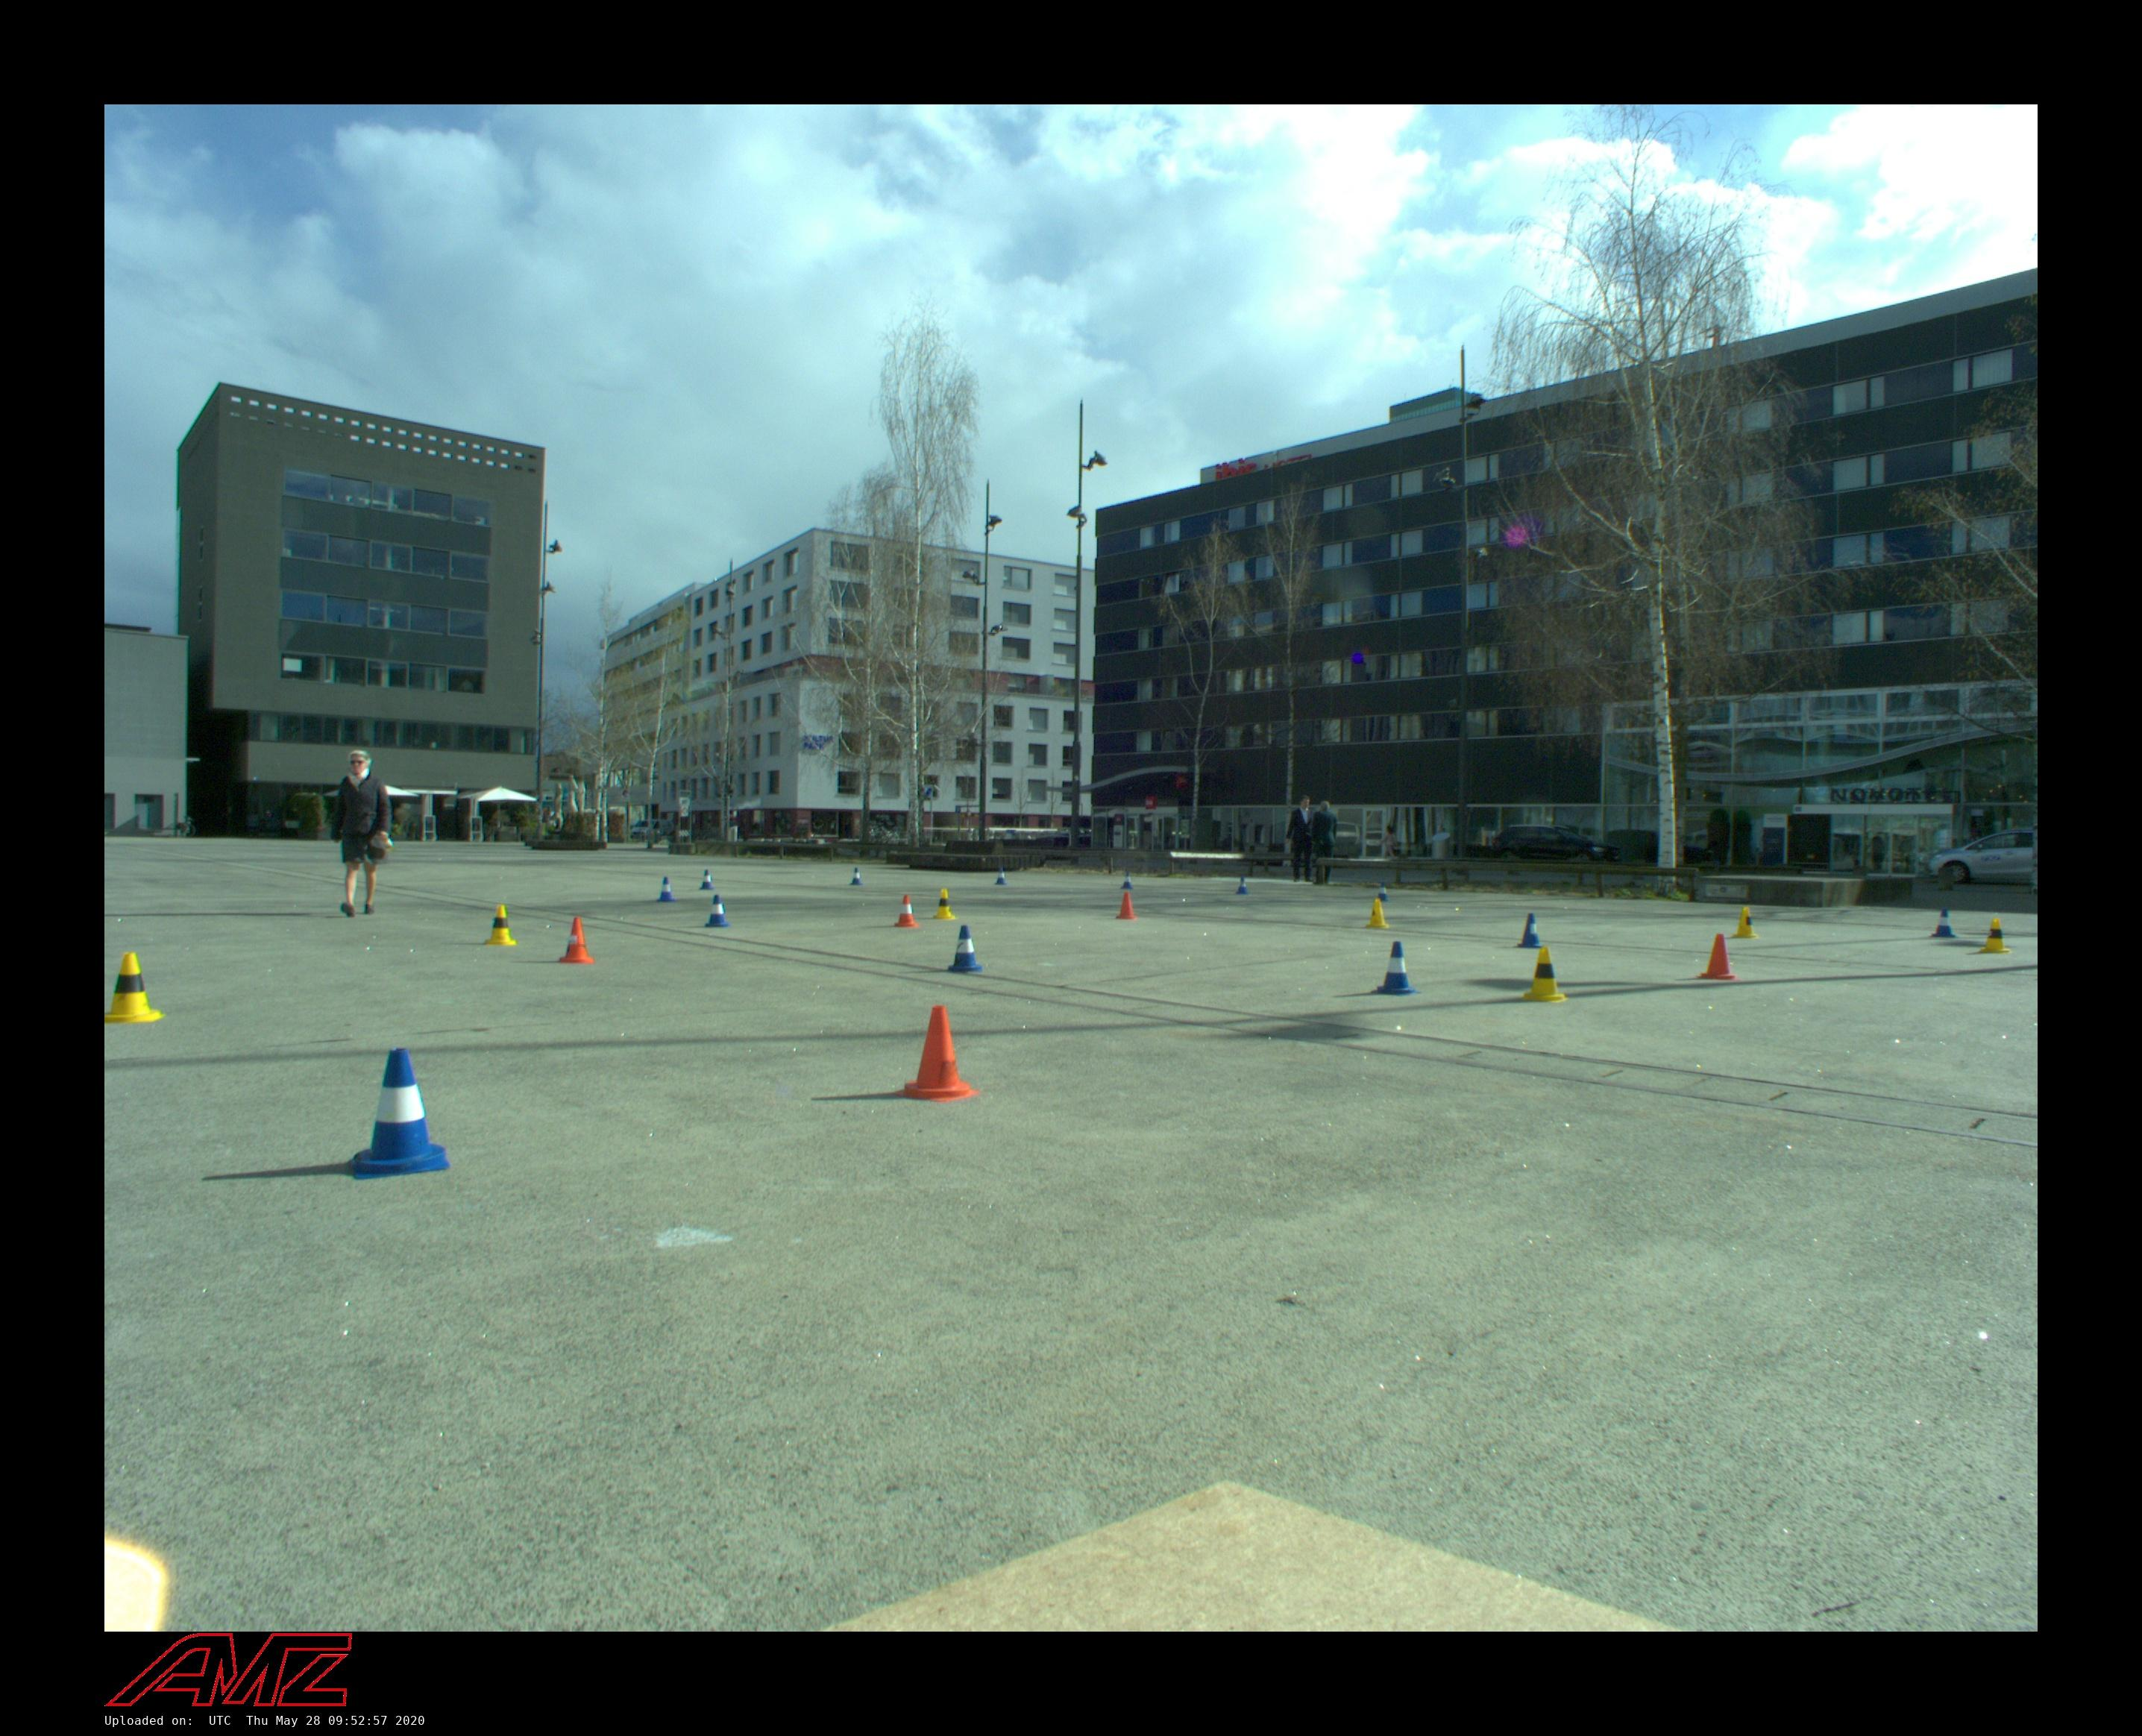blue_cone: (346, 1046, 449, 1180), (1369, 940, 1422, 997), (947, 925, 982, 973), (1514, 913, 1545, 950), (704, 894, 729, 928), (1930, 908, 1958, 939), (657, 877, 676, 902), (1374, 881, 1391, 902), (699, 870, 714, 890), (1235, 876, 1250, 895), (849, 867, 864, 886), (1120, 871, 1134, 890), (995, 868, 1008, 885)
orange_cone: (894, 1004, 980, 1103), (1695, 934, 1741, 981), (559, 917, 594, 964), (892, 894, 920, 928), (1115, 892, 1138, 921)
yellow_cone: (104, 952, 165, 1025), (1521, 947, 1568, 1004), (483, 905, 517, 946), (1979, 918, 2013, 955), (1729, 907, 1759, 940), (932, 888, 958, 921), (1364, 899, 1390, 928)
